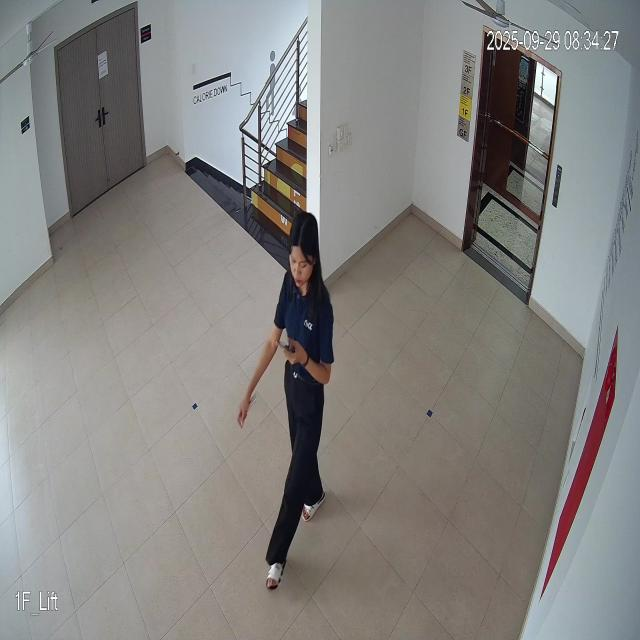face: (284, 214, 322, 302)
